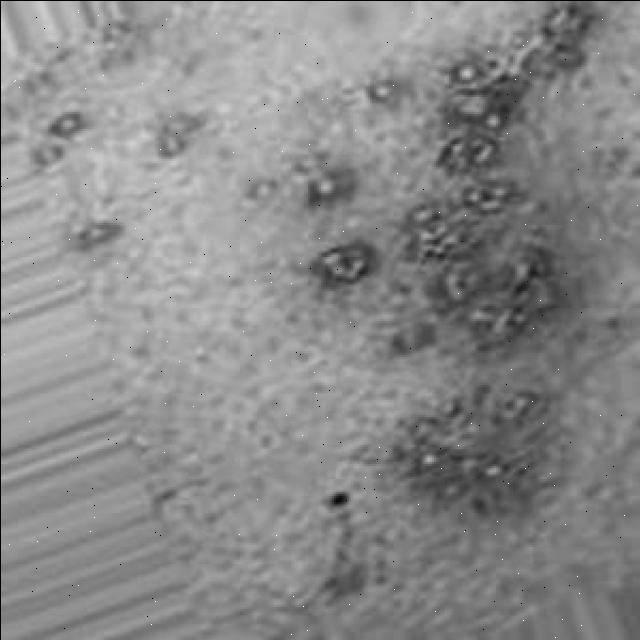Shingles: (305, 0, 589, 514)
